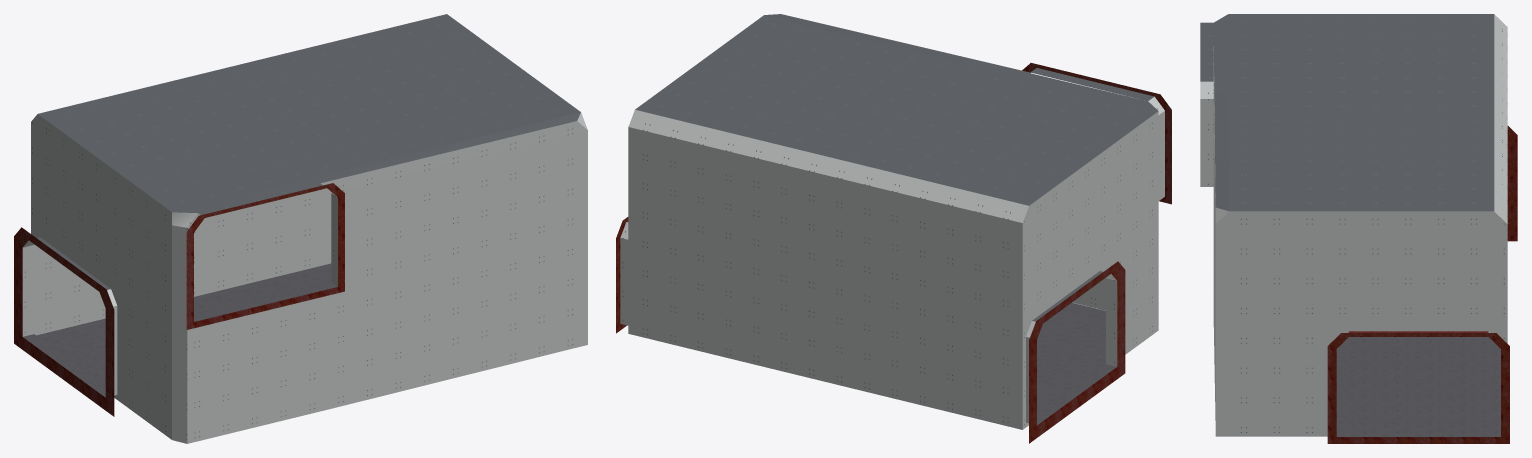
Rendered from starship_tall_room.FBX.
3 renders of one model, left to right at view 1: azimuth 30°, elevation 25°; view 2: azimuth 150°, elevation 25°; view 3: azimuth 270°, elevation 25°, orthographic. The views are drawn at different scales.
Visible parts, largest first — view 1: Room; view 2: Room; view 3: Room.
Part boxes in pixels (x1,y1,x2,y2): Room: (14, 14, 587, 443); Room: (616, 14, 1171, 443); Room: (1200, 14, 1517, 443).
Bounding box in the file's own units: 7.31 × 3.87 × 4.7.
